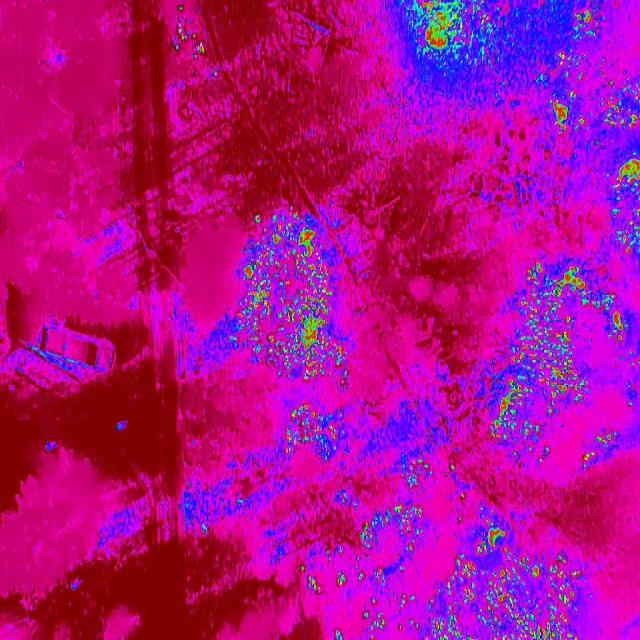fire: (362, 509, 594, 640), (492, 262, 640, 467), (242, 209, 353, 391), (406, 0, 601, 82), (594, 83, 640, 262), (283, 406, 357, 470), (542, 98, 580, 134)
